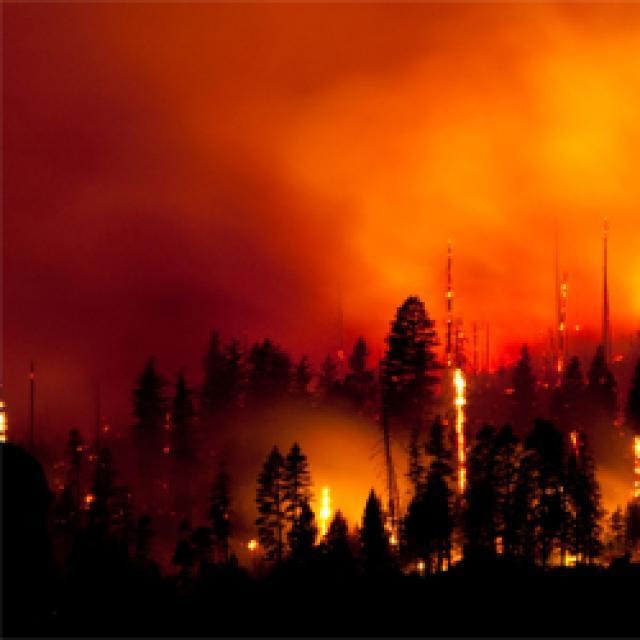Fire: (446, 370, 472, 502), (554, 546, 608, 574), (404, 554, 461, 576), (315, 486, 333, 532), (382, 514, 402, 547), (633, 431, 640, 509), (1, 396, 11, 446), (236, 538, 262, 554)
Smoke: (0, 0, 639, 347), (253, 409, 412, 511)
